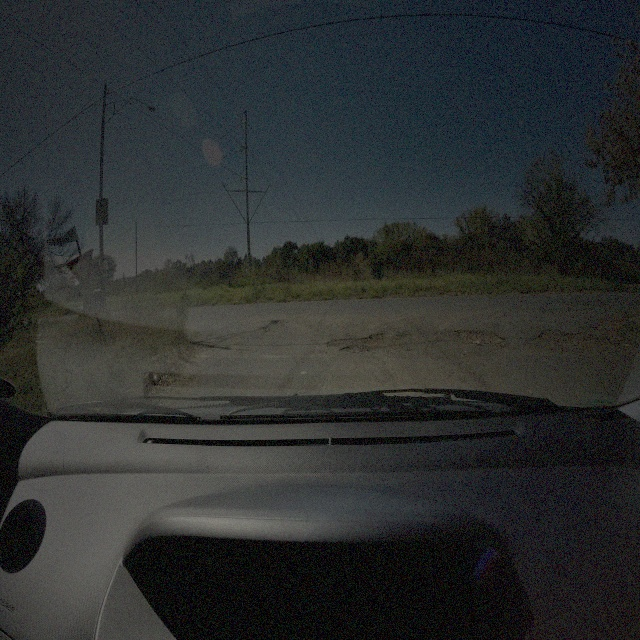pothole: (327, 333, 404, 355), (449, 325, 507, 349), (541, 325, 593, 342), (260, 321, 284, 331)
